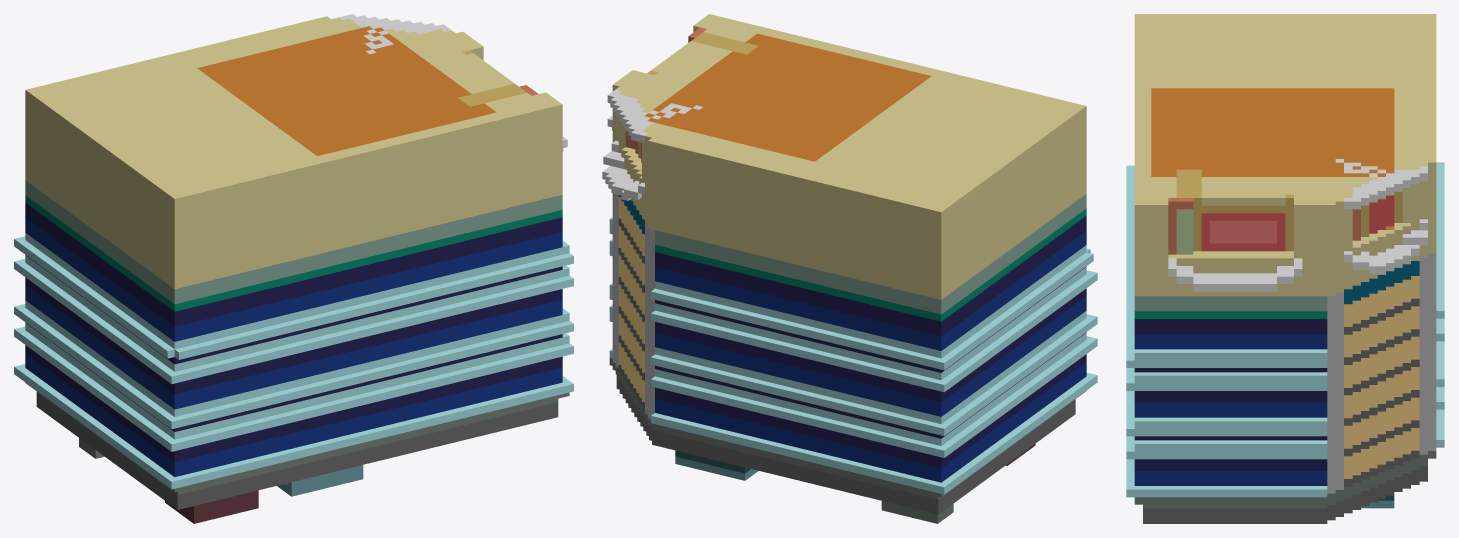
The model's file is Matsumoto1.fbx.
3 views of the same model, side by side, from view 1: azimuth 30°, elevation 25°; view 2: azimuth 150°, elevation 25°; view 3: azimuth 270°, elevation 25° (orthographic). The views are drawn at different scales.
Visible parts, largest first — view 1: palette; view 2: palette; view 3: palette.
Part boxes in pixels (x1,y1,x2,y2): palette: [14, 14, 573, 523]; palette: [602, 14, 1097, 523]; palette: [1126, 14, 1444, 523].
Size of the model in its own units: 58 by 46 by 38.
1 material, 1 textured.
